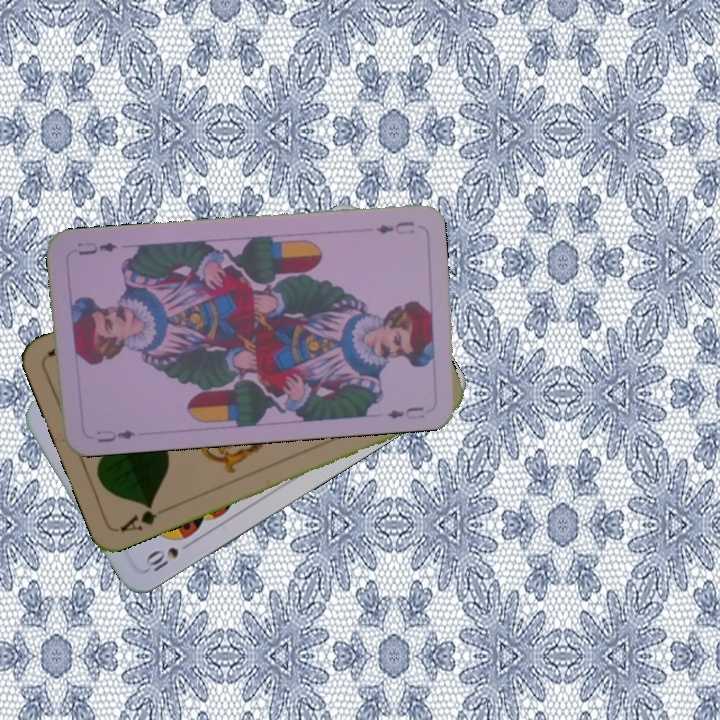EU: (372, 217, 417, 237), (93, 426, 138, 445)
GA: (116, 500, 160, 535)
S10: (140, 543, 182, 575)
